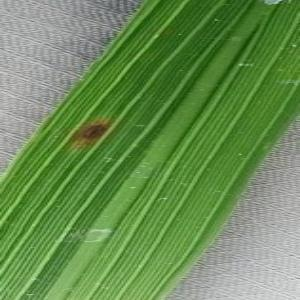Brown_Spot: (70, 114, 116, 151)
